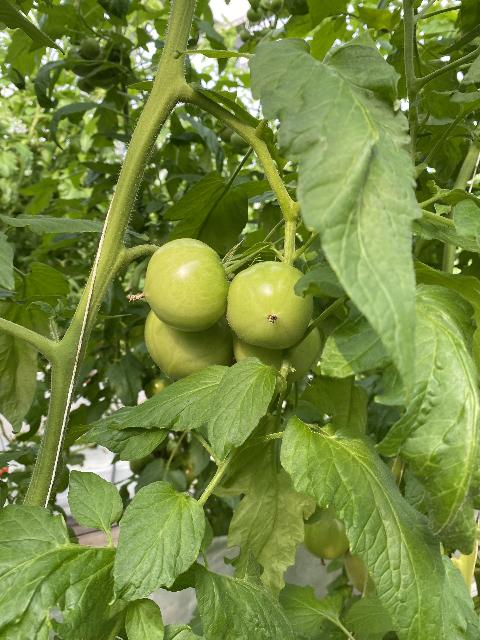b_green: (144, 237, 229, 332), (226, 261, 314, 350), (145, 308, 237, 383), (233, 315, 320, 387), (304, 502, 350, 560)
